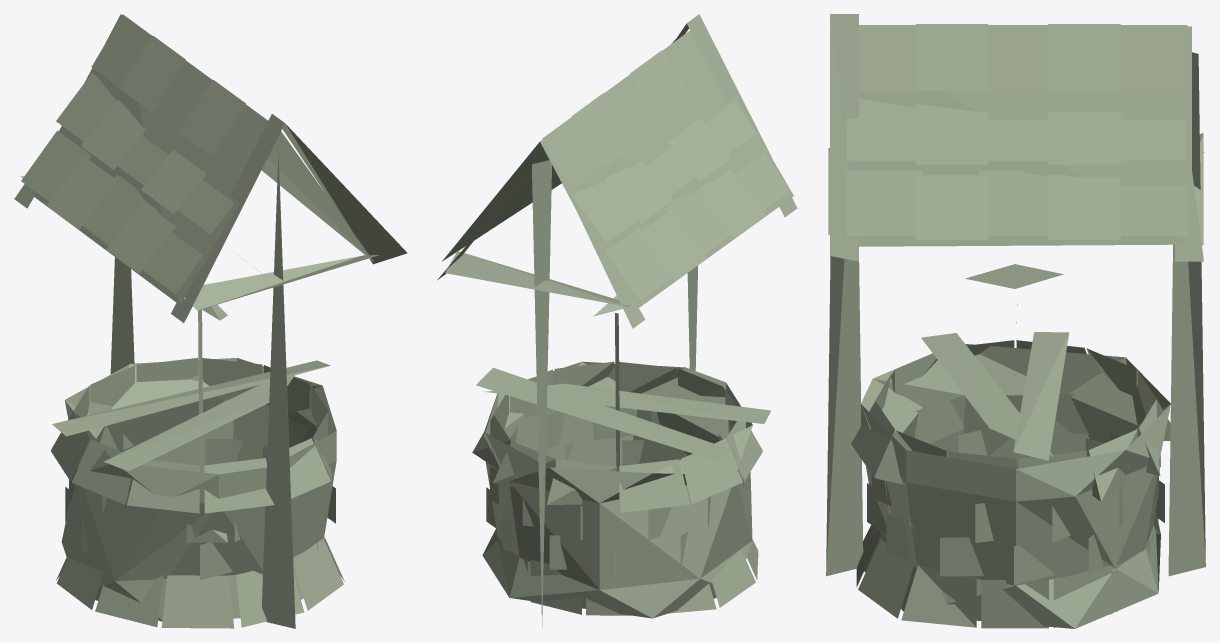
Rendered from well-wVoLV_kJ.glb.
The picture shows the model from 3 angles, left to right: view 1: azimuth 30°, elevation 25°; view 2: azimuth 150°, elevation 25°; view 3: azimuth 270°, elevation 25°; orthographic projection. The views are drawn at different scales.
Visible parts, largest first — view 1: Well_Cube.274; view 2: Well_Cube.274; view 3: Well_Cube.274.
Boxes of the visible parts, bbox=[...] form: Well_Cube.274: bbox=[14, 14, 407, 628]; Well_Cube.274: bbox=[437, 14, 797, 626]; Well_Cube.274: bbox=[826, 14, 1205, 628].
Bounding box in the file's own units: 0.6664 × 1.24 × 0.7626.
